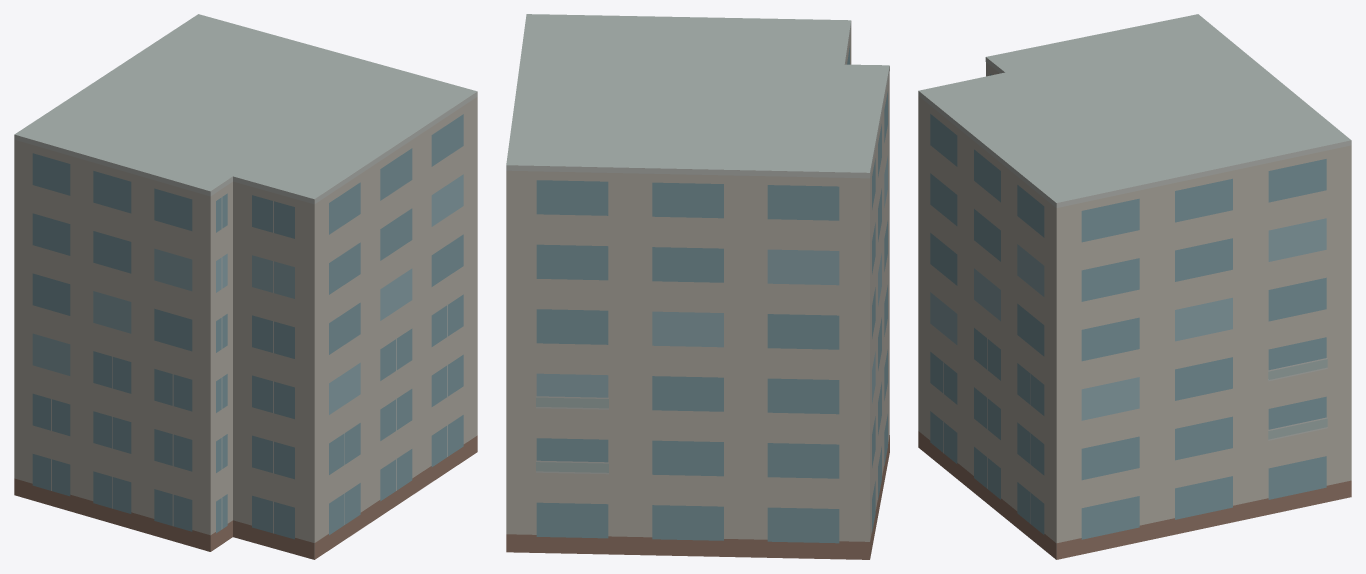
Rendered from survey-upis-33005114.glb.
The picture shows the model from 3 angles, left to right: view 1: azimuth 30°, elevation 25°; view 2: azimuth 150°, elevation 25°; view 3: azimuth 270°, elevation 25°; orthographic projection. The views are drawn at different scales.
Parts seen in each view (by area): view 1: survey-upis-33005114.tmp; view 2: survey-upis-33005114.tmp; view 3: survey-upis-33005114.tmp.
Part boxes in pixels (<box>): survey-upis-33005114.tmp: <box>14,14,477,559</box>; survey-upis-33005114.tmp: <box>506,14,889,559</box>; survey-upis-33005114.tmp: <box>918,14,1351,559</box>.
Size of the model in its own units: 19.56 by 17.2 by 18.93.
